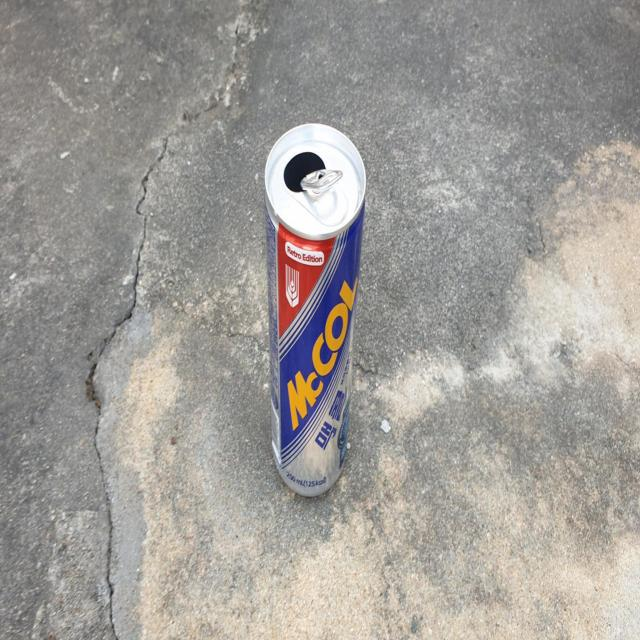can: (265, 122, 366, 496)
